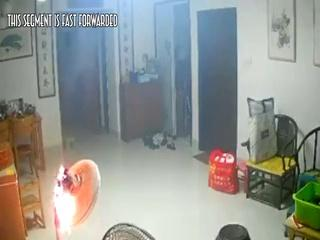Fire: (50, 140, 90, 234)
